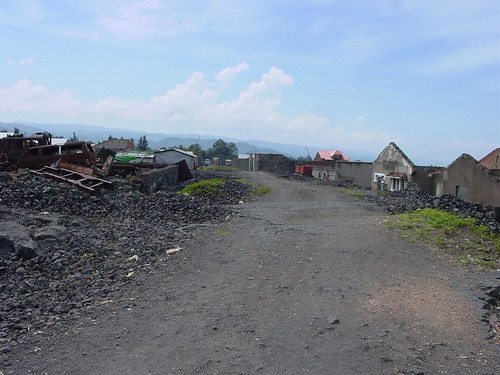road: (14, 173, 480, 371)
sky: (1, 2, 496, 144)
trash: (5, 147, 203, 204)
